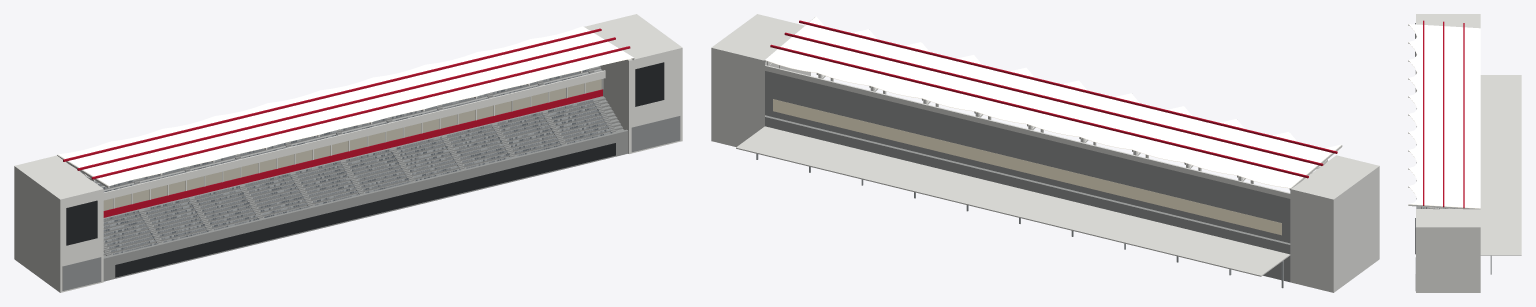
File: cota_stand_main_c.glb
3 views of the same model, side by side, from view 1: azimuth 30°, elevation 25°; view 2: azimuth 150°, elevation 25°; view 3: azimuth 270°, elevation 25° (orthographic). The views are drawn at different scales.
Parts seen in each view (by area): view 1: austin-main-grandstand; view 2: austin-main-grandstand; view 3: austin-main-grandstand.
Part boxes in pixels (box(x1,y1,x2,y2)): austin-main-grandstand: box(14, 14, 682, 292); austin-main-grandstand: box(711, 14, 1379, 292); austin-main-grandstand: box(1408, 14, 1521, 292).
Bounding box in the file's own units: 150 × 23.63 × 33.71.
